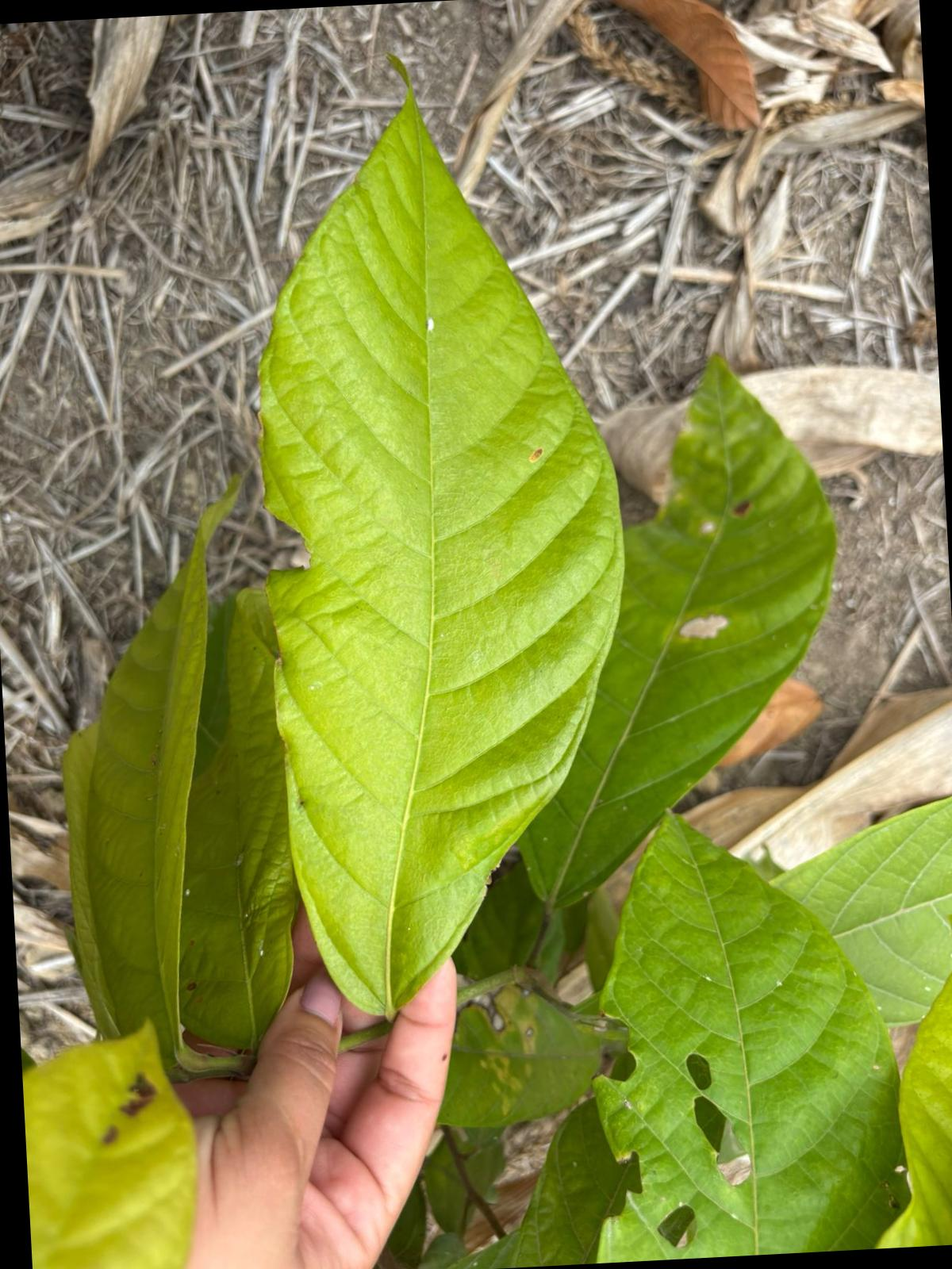Nitrogeno: (260, 83, 624, 1014)
